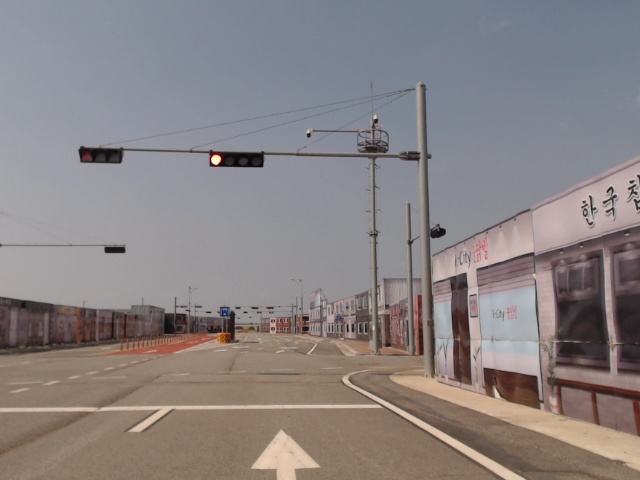red_4: (209, 151, 264, 168)
